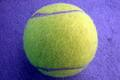tennis ball: (21, 2, 99, 78)
